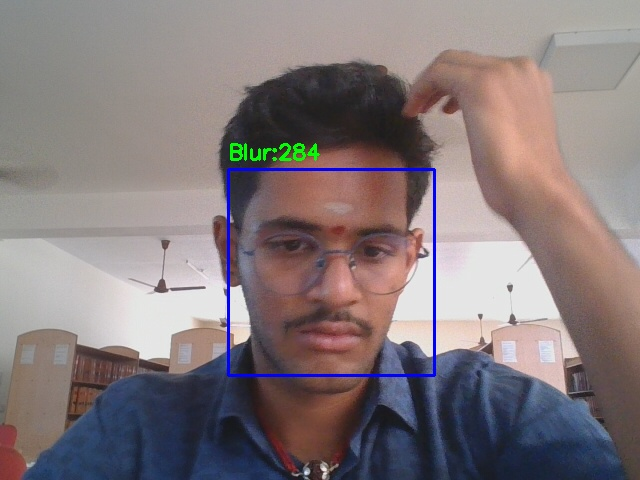real: (228, 169, 434, 375)
